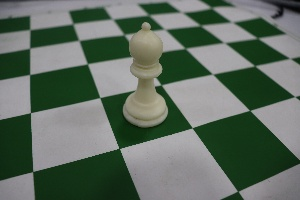white_bishop: (118, 11, 174, 132)
